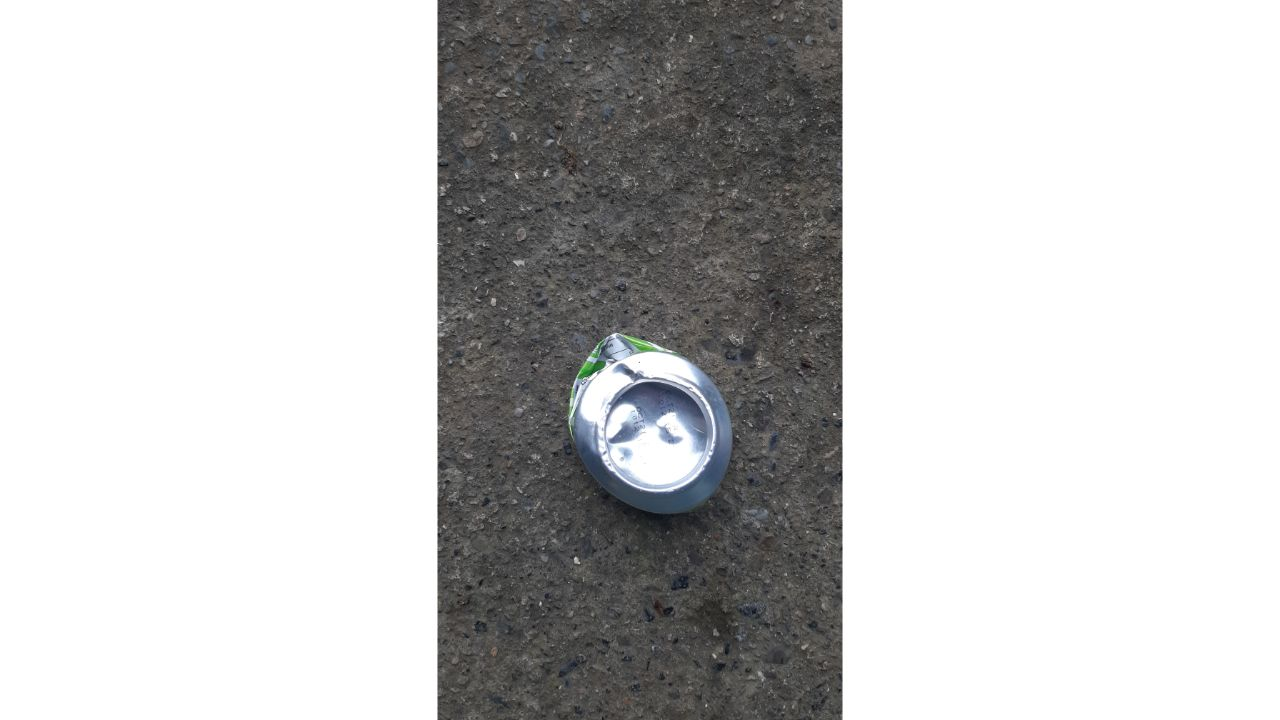Can: (567, 333, 730, 516)
